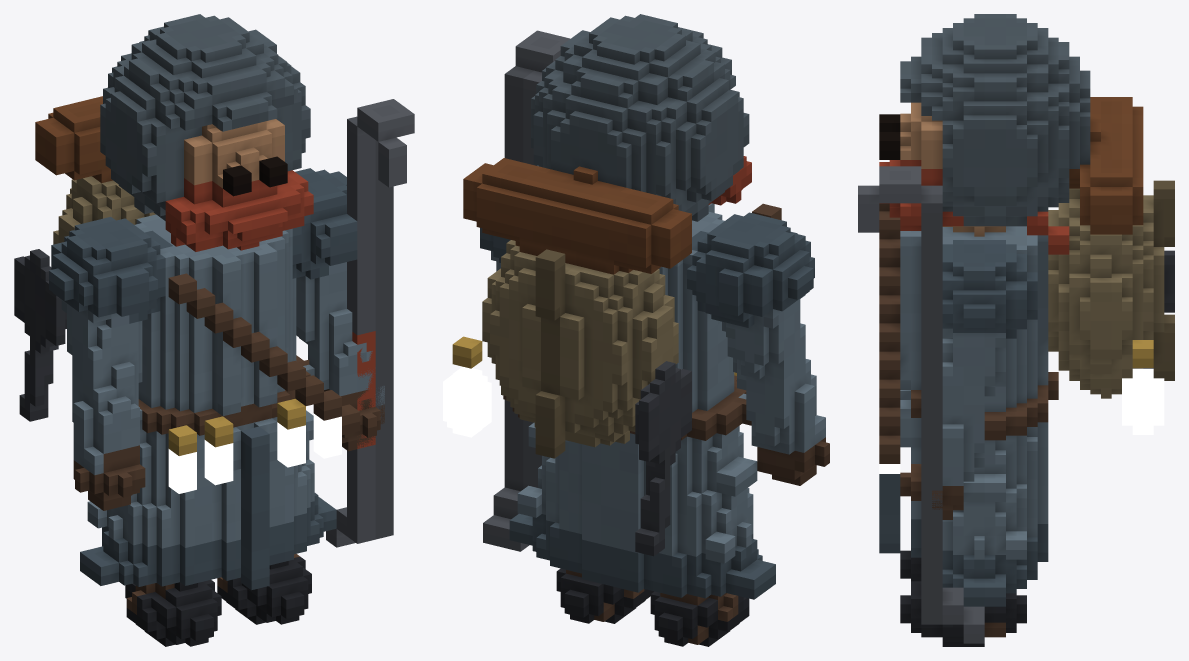
Rendered from u_receleur.glb.
3 views of the same model, side by side, from view 1: azimuth 30°, elevation 25°; view 2: azimuth 150°, elevation 25°; view 3: azimuth 270°, elevation 25° (orthographic). The views are drawn at different scales.
Parts seen in each view (by area): view 1: receleur_body, receleur_weapon, receleur_glow; view 2: receleur_body, receleur_weapon, receleur_glow; view 3: receleur_body, receleur_weapon, receleur_glow.
Part boxes in pixels (x1,y1,x2,y2): receleur_body: [14, 14, 384, 646]; receleur_weapon: [326, 99, 414, 547]; receleur_glow: [168, 413, 341, 493]; receleur_body: [452, 14, 829, 646]; receleur_weapon: [483, 30, 570, 551]; receleur_glow: [443, 366, 491, 437]; receleur_body: [879, 14, 1174, 646]; receleur_weapon: [858, 166, 984, 643]; receleur_glow: [879, 368, 1164, 473].
Bounding box in the file's own units: 0.85 × 1.52 × 0.75.
